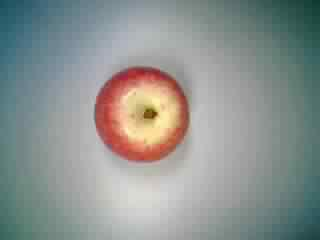apple: (88, 61, 192, 165)
